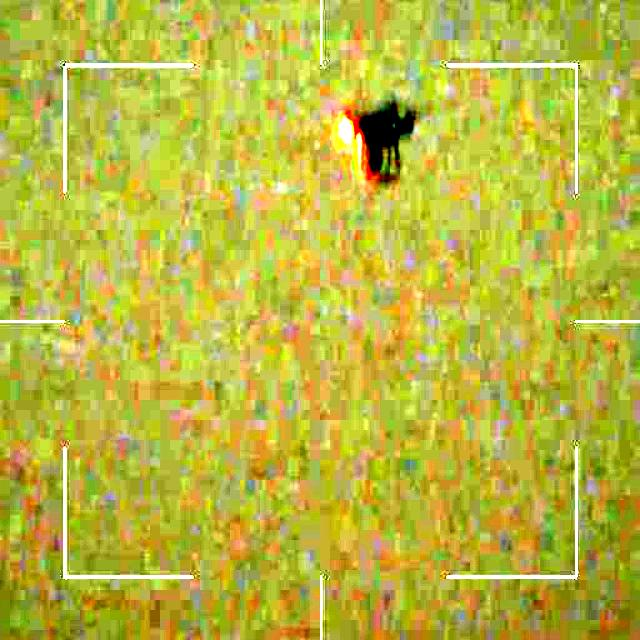bird: (332, 92, 419, 184)
